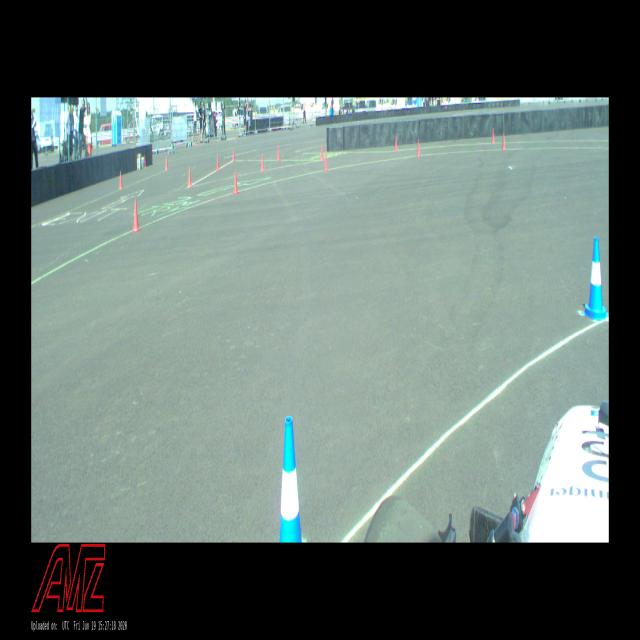blue_cone: (278, 417, 307, 542), (582, 236, 608, 321)
unknown_cone: (131, 199, 141, 233), (233, 169, 239, 194), (323, 150, 329, 172), (187, 167, 193, 188), (118, 170, 124, 190), (416, 138, 421, 158), (260, 152, 265, 172), (502, 132, 506, 150), (216, 154, 220, 172), (320, 144, 324, 162), (394, 136, 398, 152), (492, 128, 496, 143), (232, 148, 236, 162), (164, 156, 168, 170), (277, 146, 280, 161)
